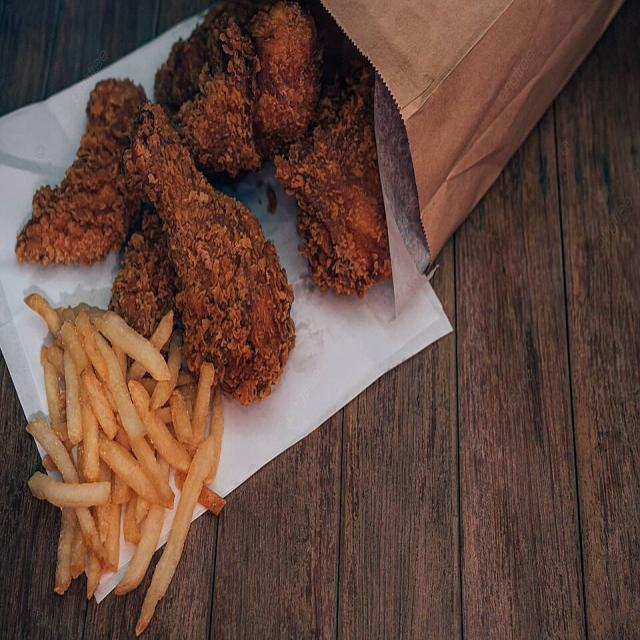khoai tay chien: (20, 288, 225, 635)
thit ga: (126, 110, 323, 400), (163, 1, 330, 185), (10, 80, 154, 286), (282, 80, 394, 296), (110, 206, 181, 339)
